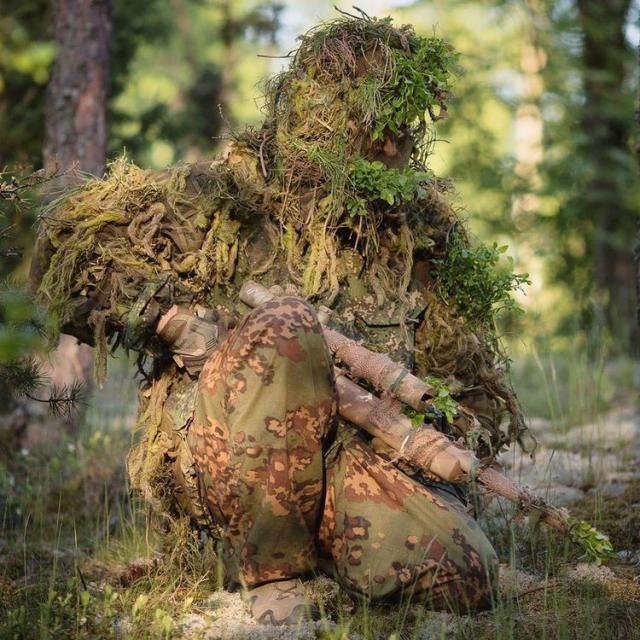Camouflage: (30, 3, 609, 616)
